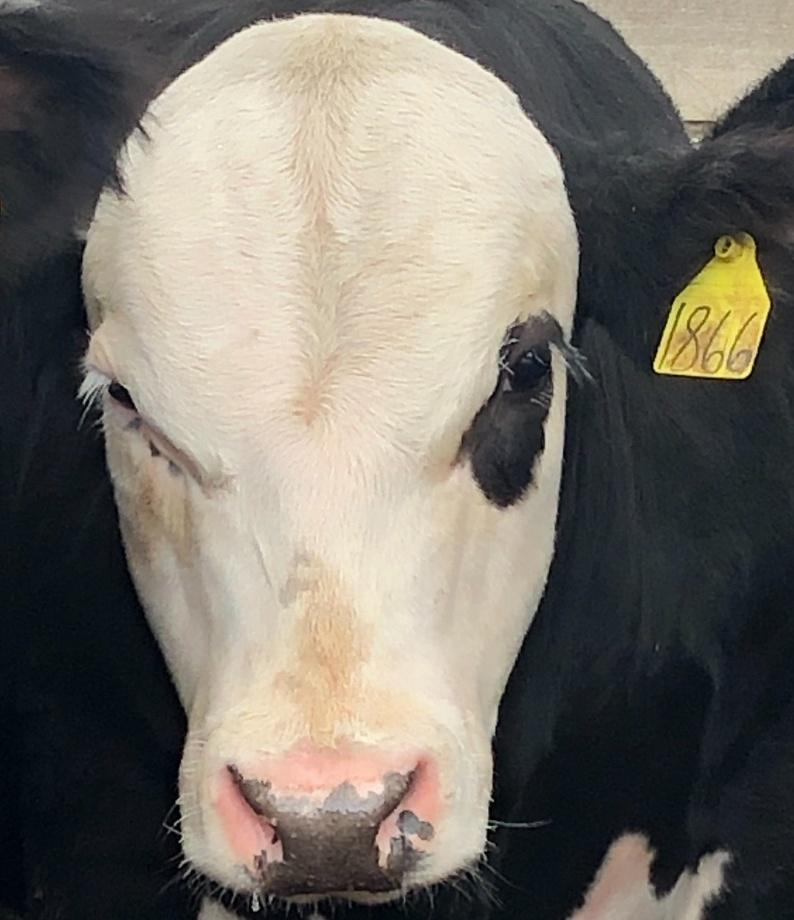muzzles: (168, 720, 507, 911)
